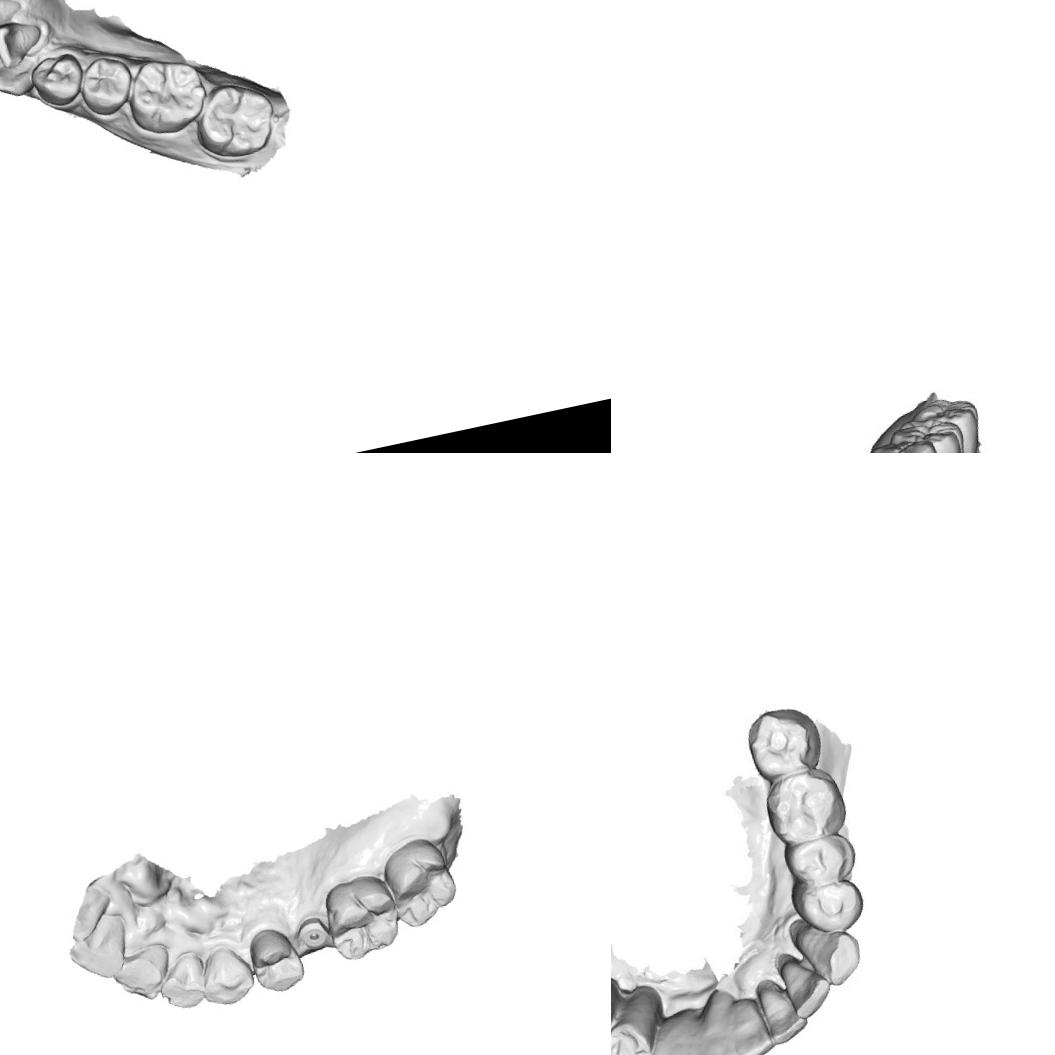canine: (788, 906, 868, 988), (194, 940, 260, 1010), (639, 1010, 701, 1055), (0, 45, 44, 103)
implant: (296, 912, 333, 955)
incisor: (60, 910, 136, 986), (680, 986, 749, 1055), (108, 939, 178, 1007), (775, 948, 833, 1019), (152, 948, 213, 1015), (756, 974, 810, 1046), (719, 990, 774, 1055), (0, 14, 48, 72), (0, 0, 26, 37)
molar: (185, 72, 283, 167), (376, 830, 464, 933), (119, 48, 214, 142), (318, 868, 407, 966), (755, 764, 847, 850), (738, 698, 826, 784), (911, 391, 988, 453), (891, 421, 973, 453)
premolar: (777, 825, 862, 892), (788, 872, 870, 938), (241, 920, 308, 999), (73, 50, 141, 122), (25, 49, 89, 112), (611, 1018, 657, 1055)
